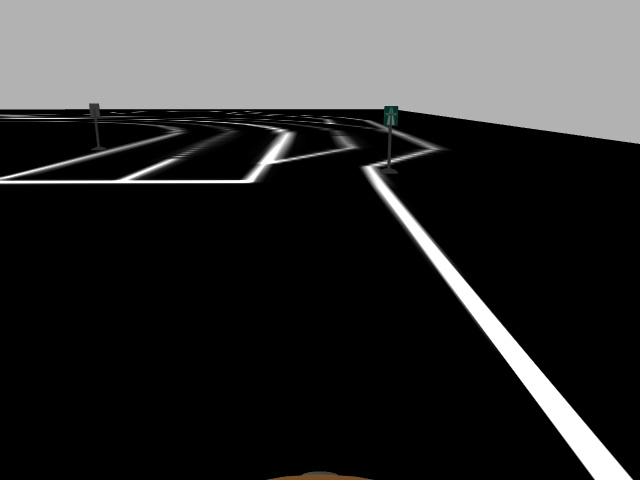enter_highway: (381, 105, 399, 127)
